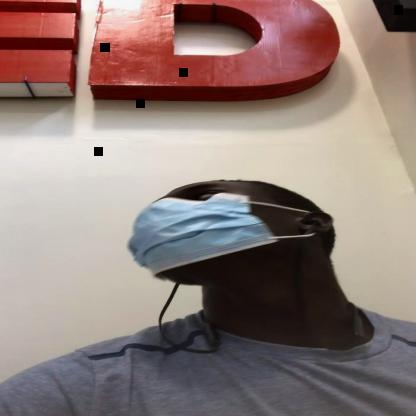mask: (126, 180, 319, 286)
